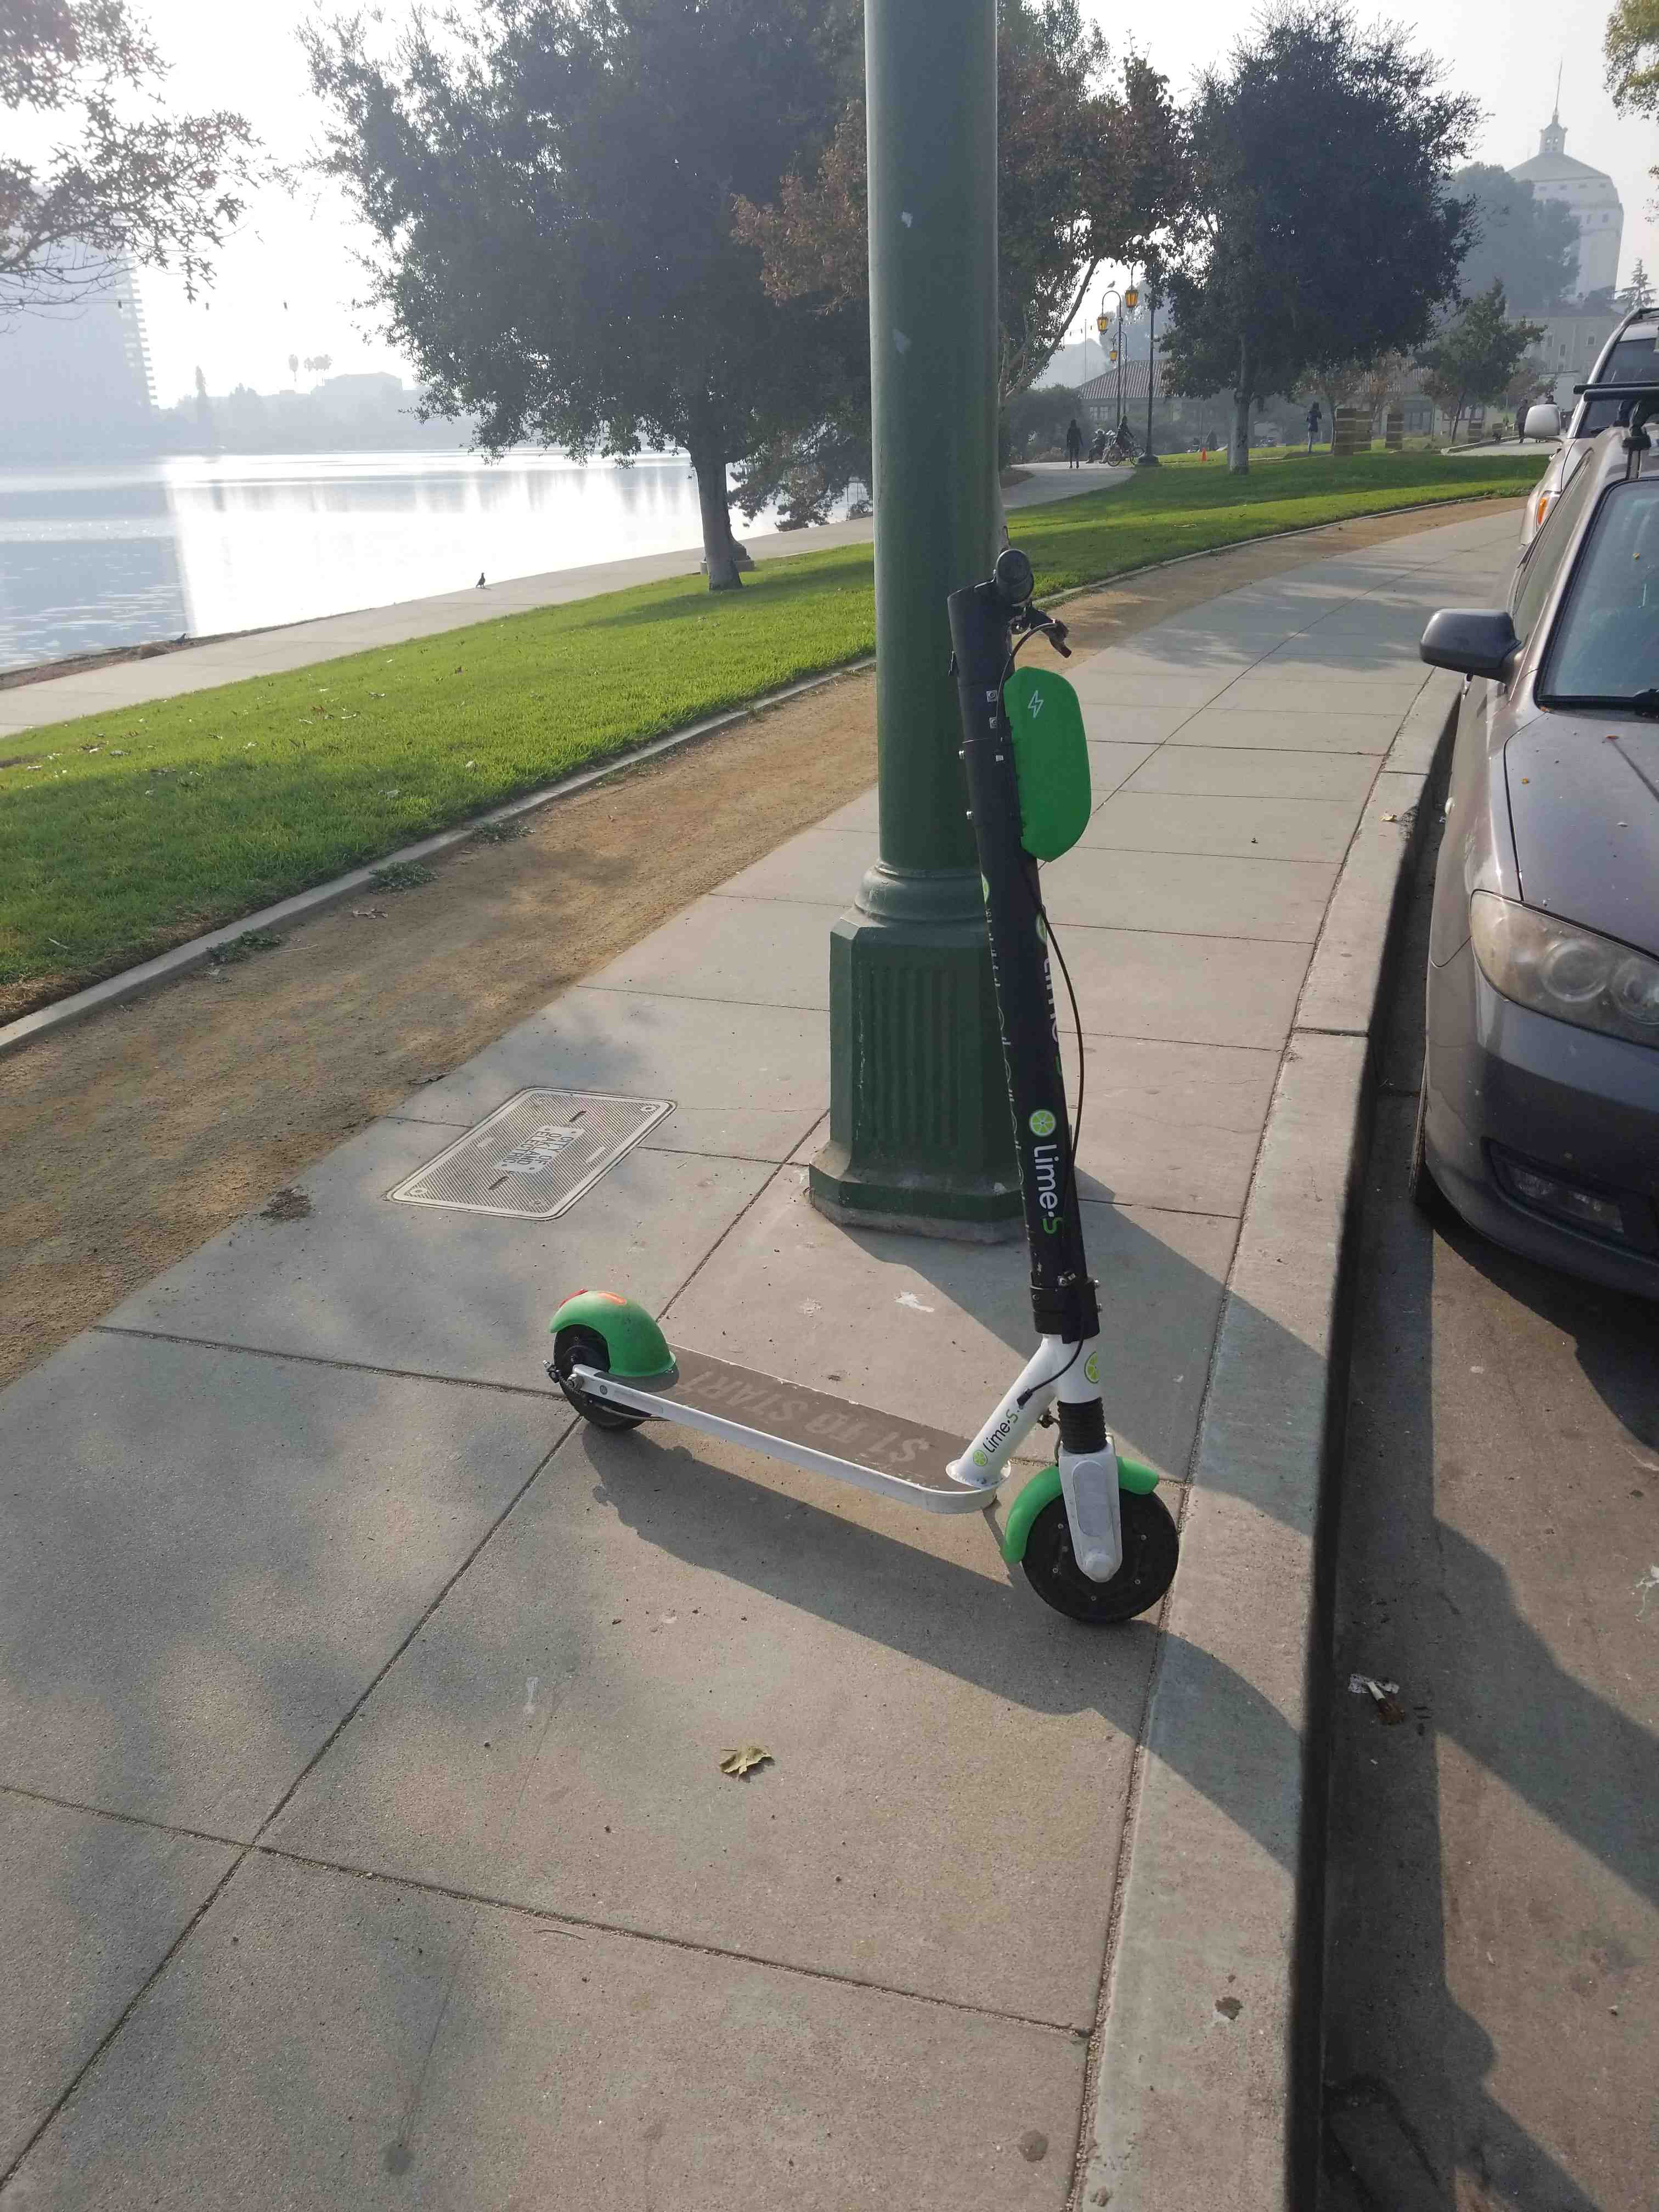scooter: (511, 543, 1180, 1669)
